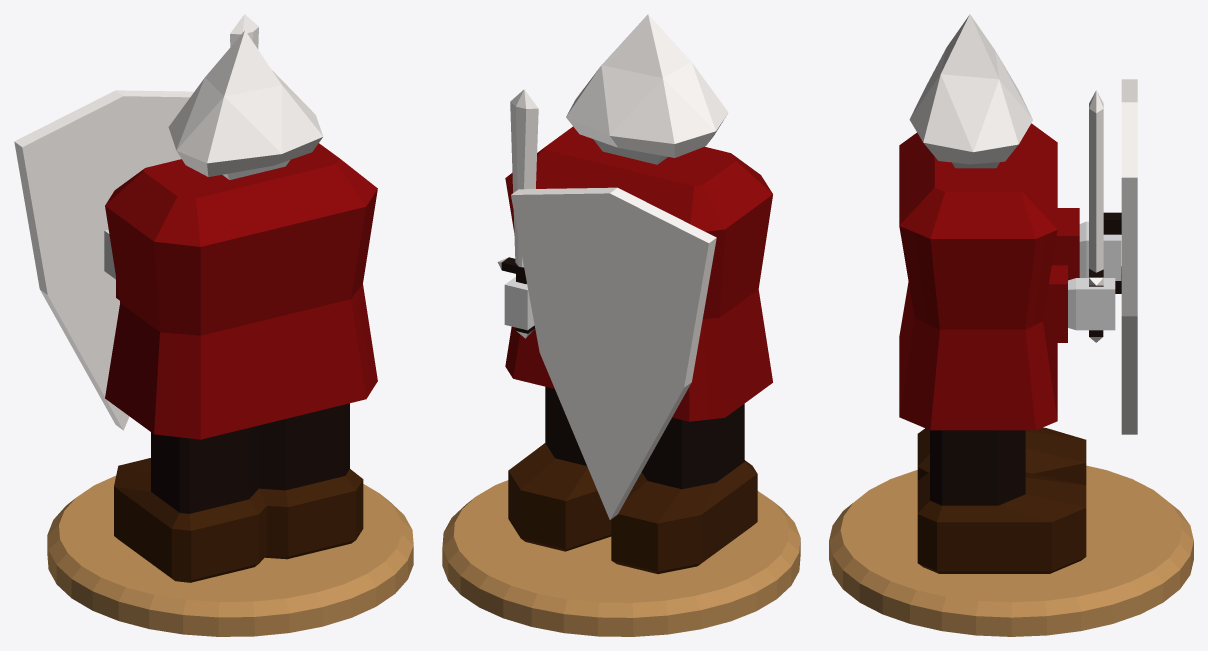
File: soldier.fbx
The picture shows the model from 3 angles, left to right: view 1: azimuth 30°, elevation 25°; view 2: azimuth 150°, elevation 25°; view 3: azimuth 270°, elevation 25°; orthographic projection. The views are drawn at different scales.
Visible parts, largest first — view 1: Cylinder; view 2: Cylinder; view 3: Cylinder.
Part boxes in pixels (x1,y1,x2,y2): Cylinder: (14, 14, 413, 636); Cylinder: (442, 14, 800, 636); Cylinder: (829, 14, 1193, 636).
Size of the model in its own units: 2 by 2 by 3.28.
